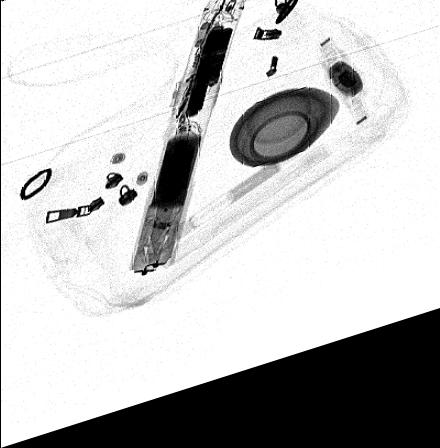Baton: (126, 7, 245, 285)
